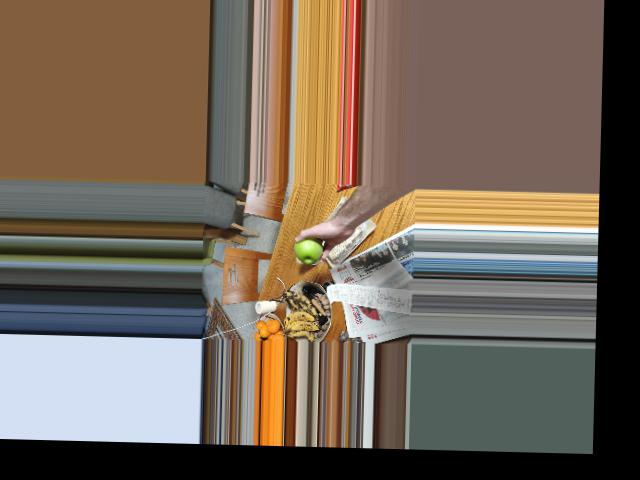apple: (292, 233, 326, 262)
